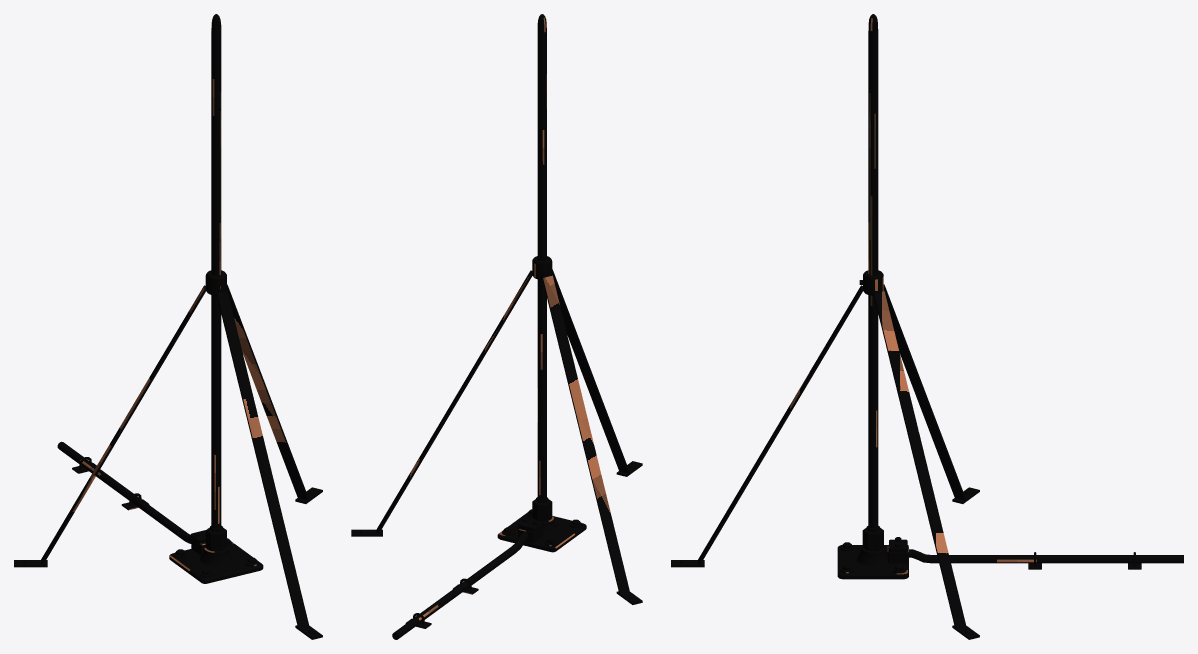
The model's file is terminal.obj.
The picture shows the model from 3 angles, left to right: view 1: azimuth 30°, elevation 25°; view 2: azimuth 150°, elevation 25°; view 3: azimuth 270°, elevation 25°; orthographic projection. The views are drawn at different scales.
Visible parts, largest first — view 1: rod, leg_1, leg_0, leg_2, plate, cable, boss; view 2: rod, leg_2, leg_1, leg_0, cable, plate; view 3: rod, leg_0, cable, leg_2, leg_1, plate.
Part boxes in pixels (box(x1,y1,x2,y2)): rod: box(211, 14, 221, 528); leg_1: box(216, 291, 308, 627); leg_0: box(226, 284, 308, 500); leg_2: box(41, 285, 205, 564); plate: box(169, 542, 263, 583); cable: box(57, 441, 191, 543); boss: box(200, 545, 232, 566); rod: box(537, 14, 546, 499); leg_2: box(542, 275, 629, 593); leg_1: box(552, 269, 629, 473); leg_0: box(376, 270, 532, 534); cable: box(392, 532, 528, 639); plate: box(497, 513, 586, 552); rod: box(868, 14, 878, 528); leg_0: box(873, 291, 965, 627); cable: box(908, 549, 1183, 563); leg_2: box(883, 284, 965, 500); leg_1: box(698, 285, 862, 564); plate: box(837, 545, 908, 579).
Size of the model in its own units: 0.5729 by 0.976 by 0.824.
